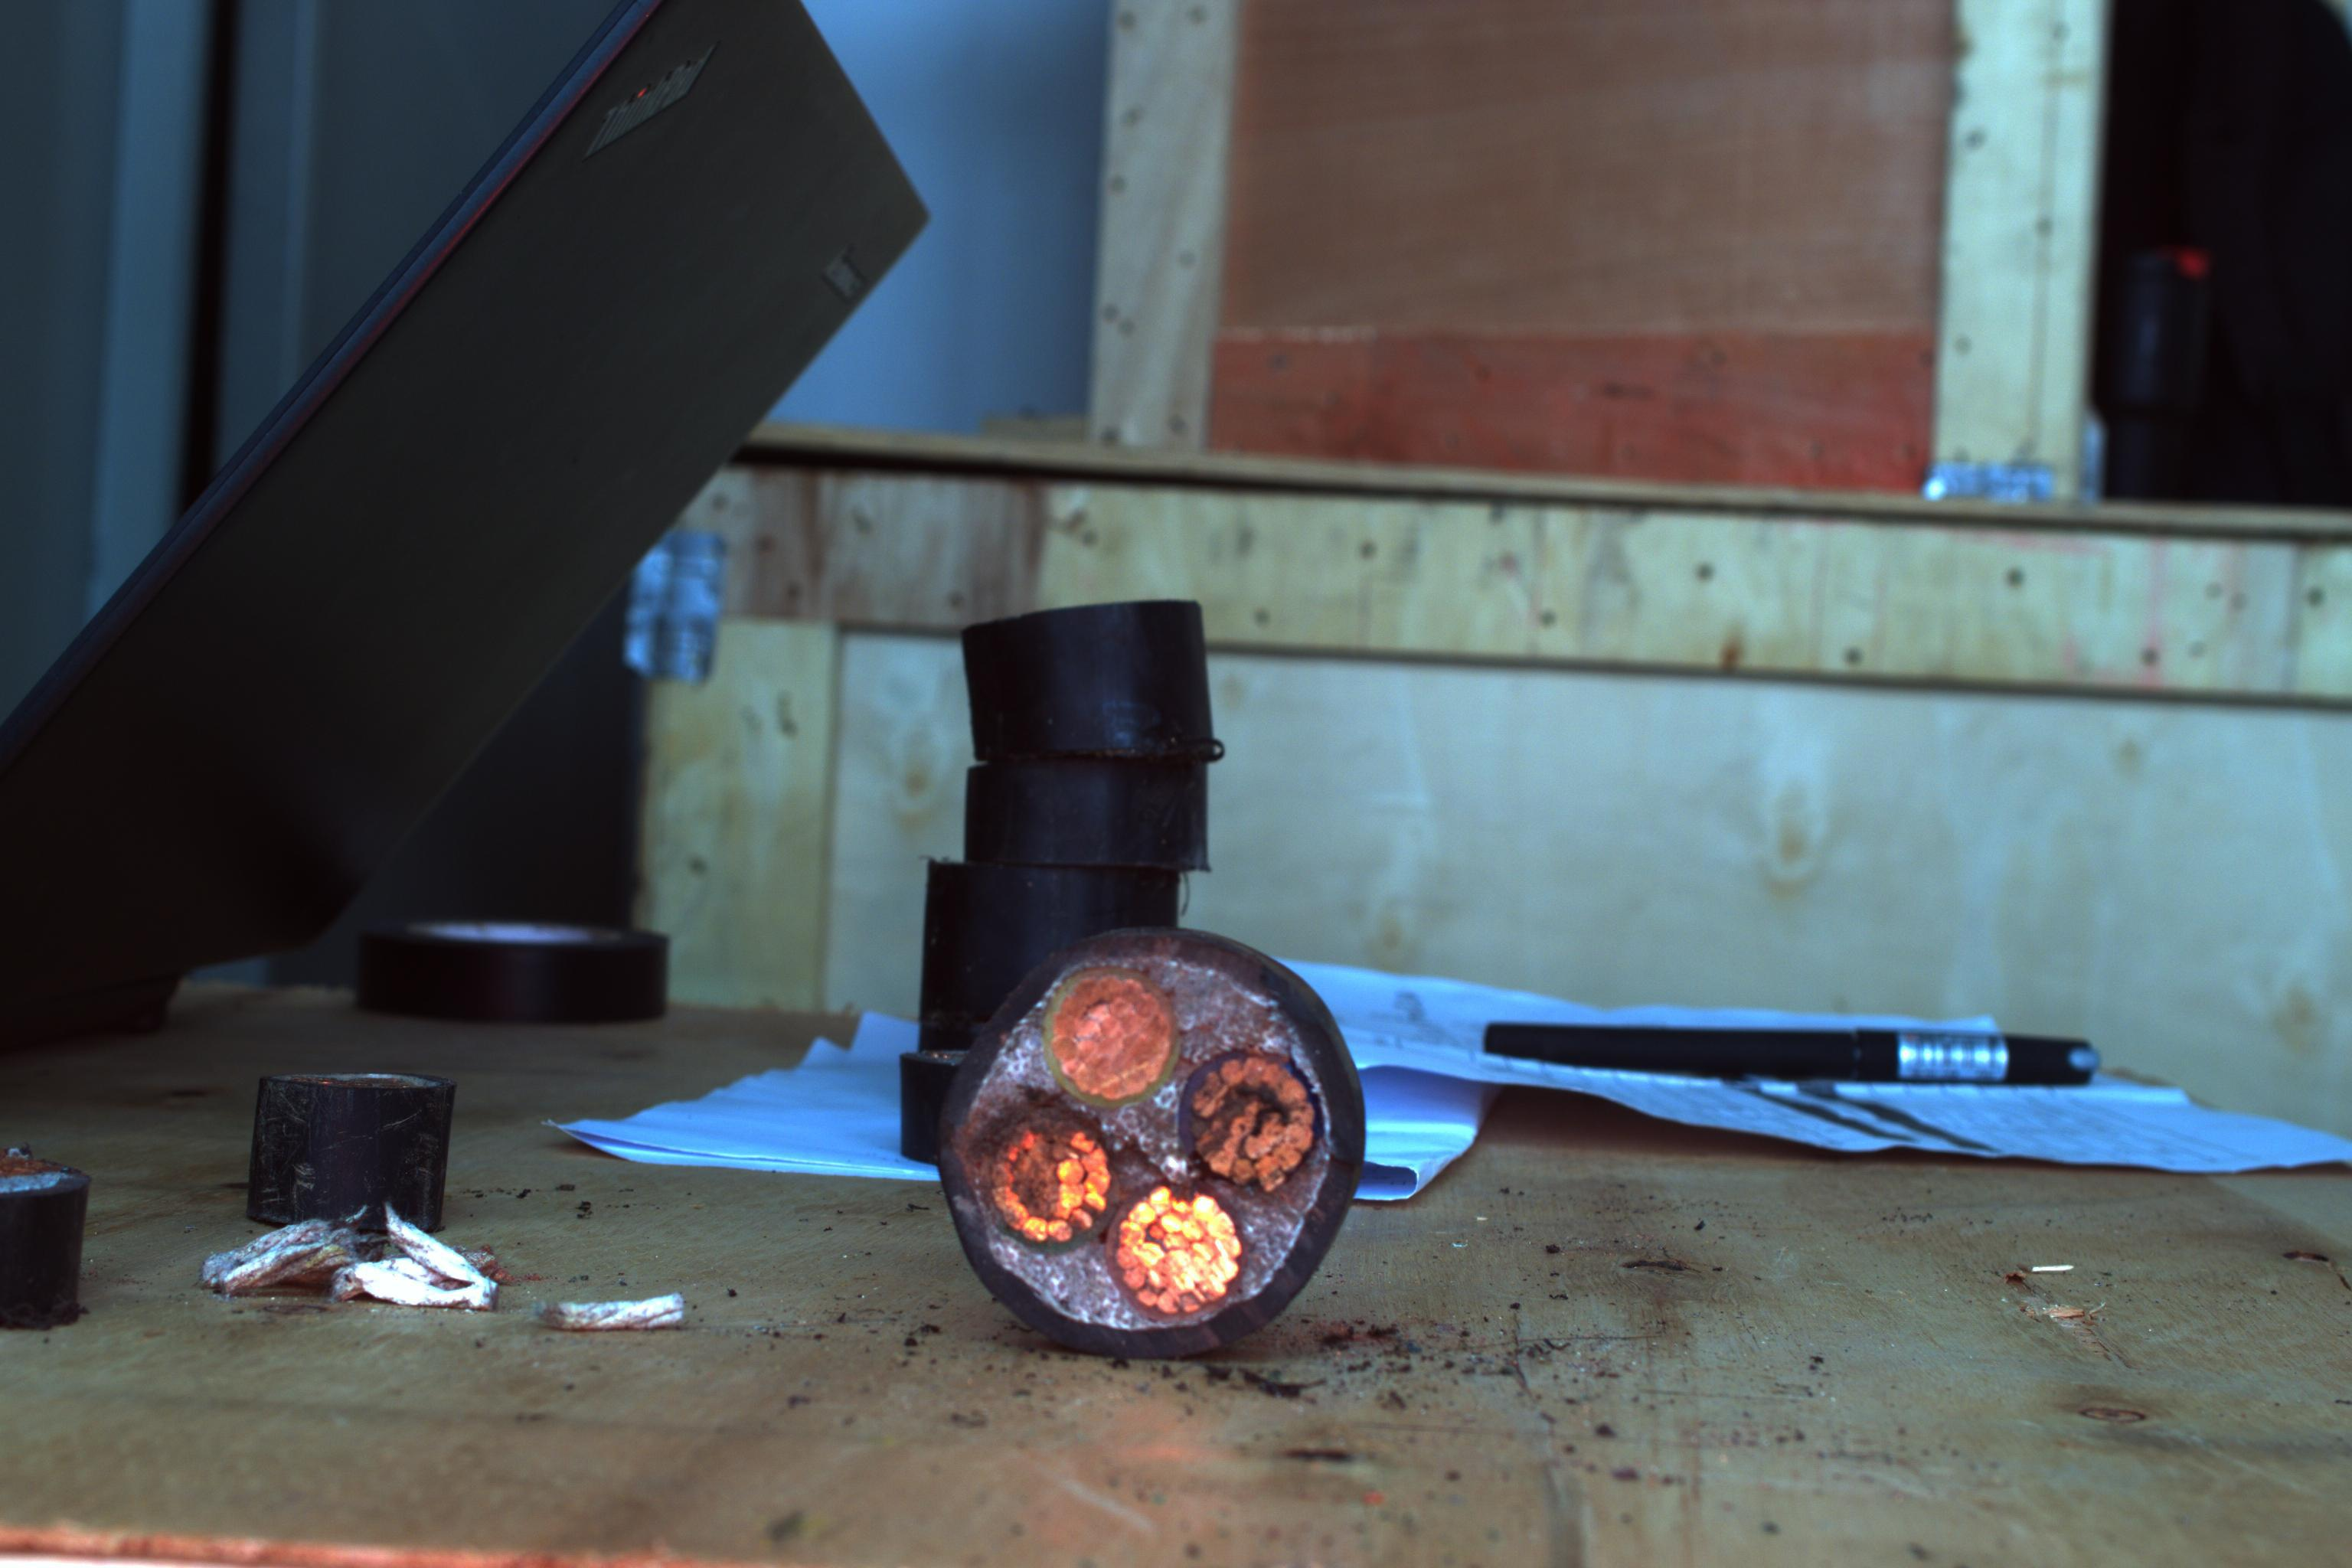YJV_0.6_1kV_4x120: (943, 919, 1365, 1333)
